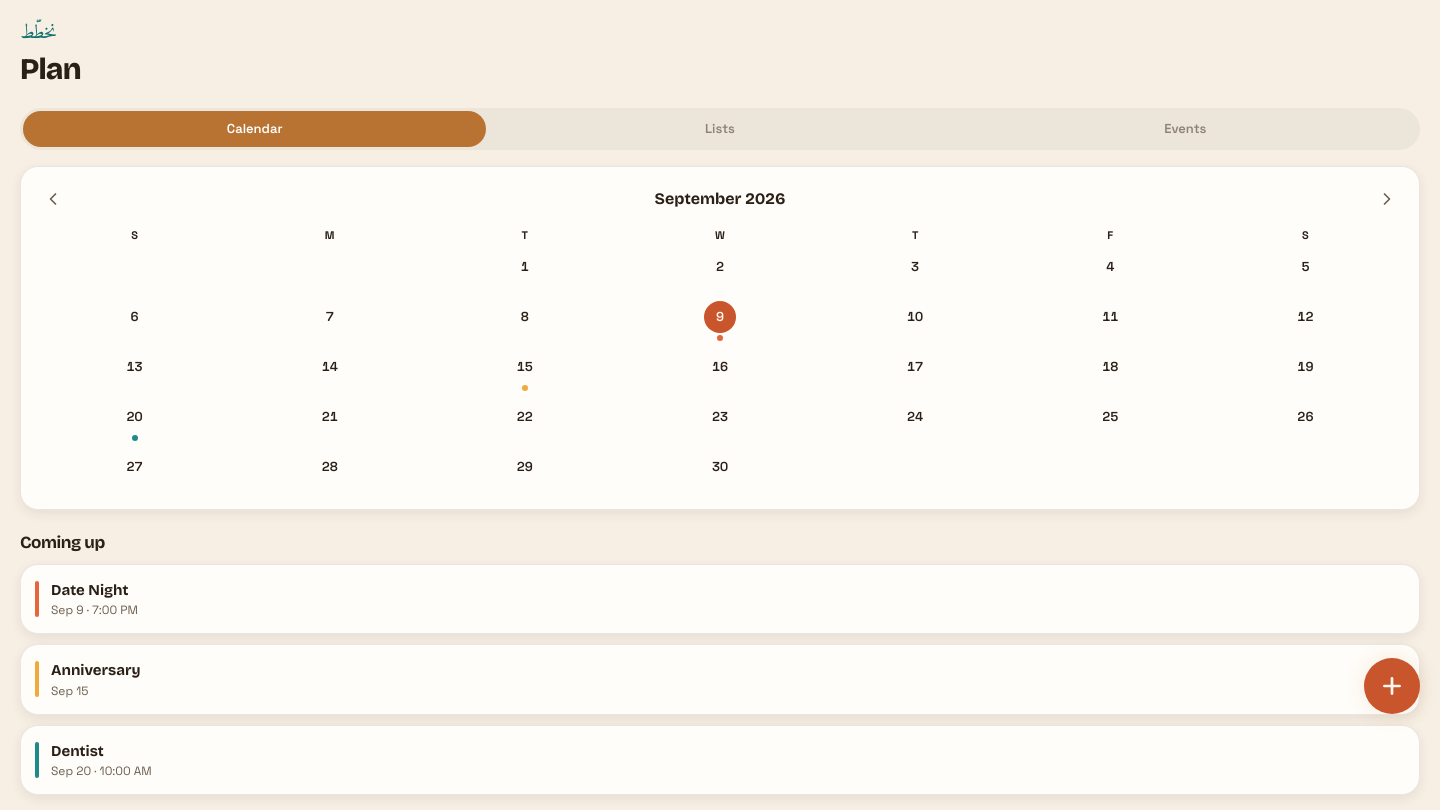
CalendarTabPage › interaction › opens the DayDetailSheet for the tapped day
Tap today's cell (which has an event).
Click the button "9" at (720, 321), box [622,299,818,343]
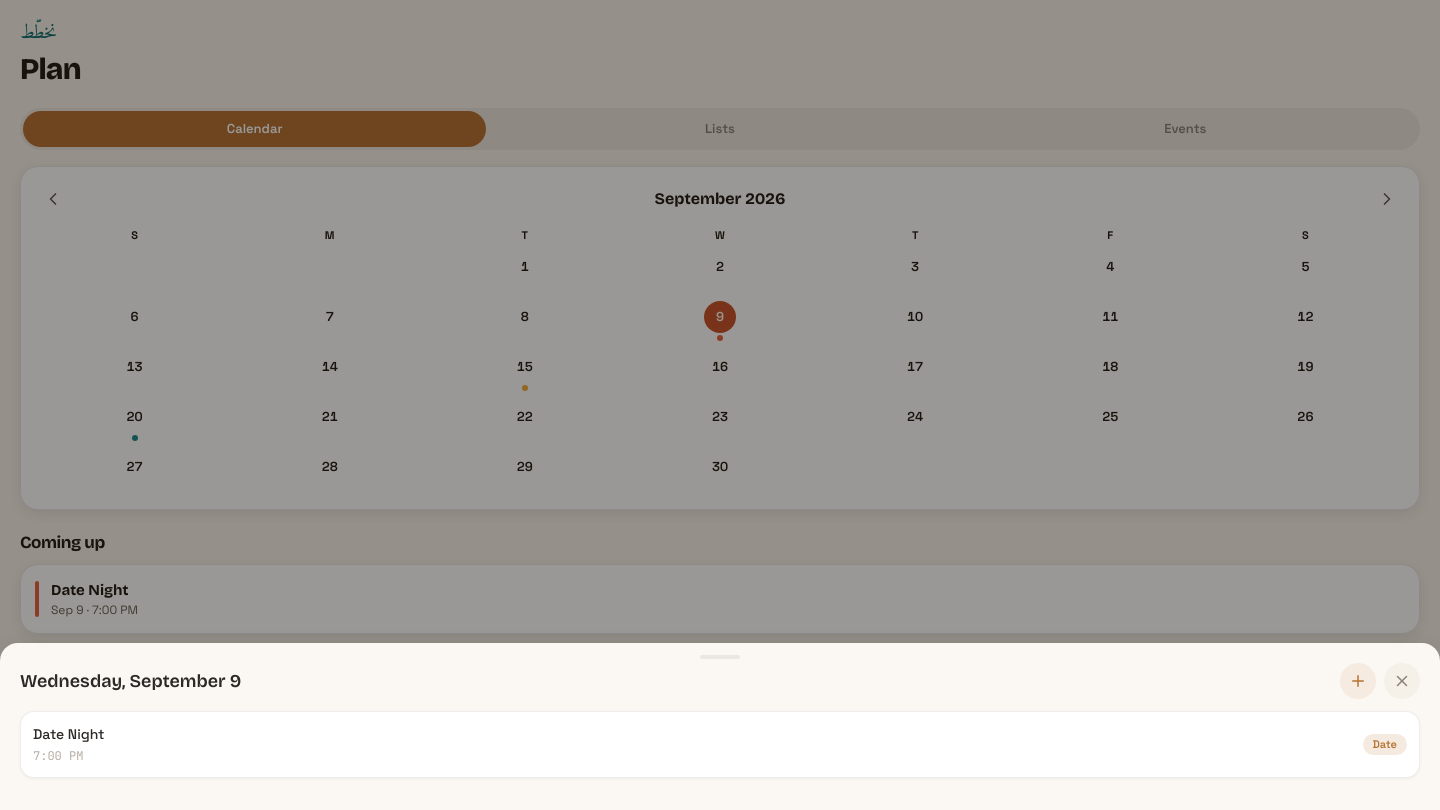
Result: the element with test id "day-detail-sheet" is shown at [0,643,1439,809]
